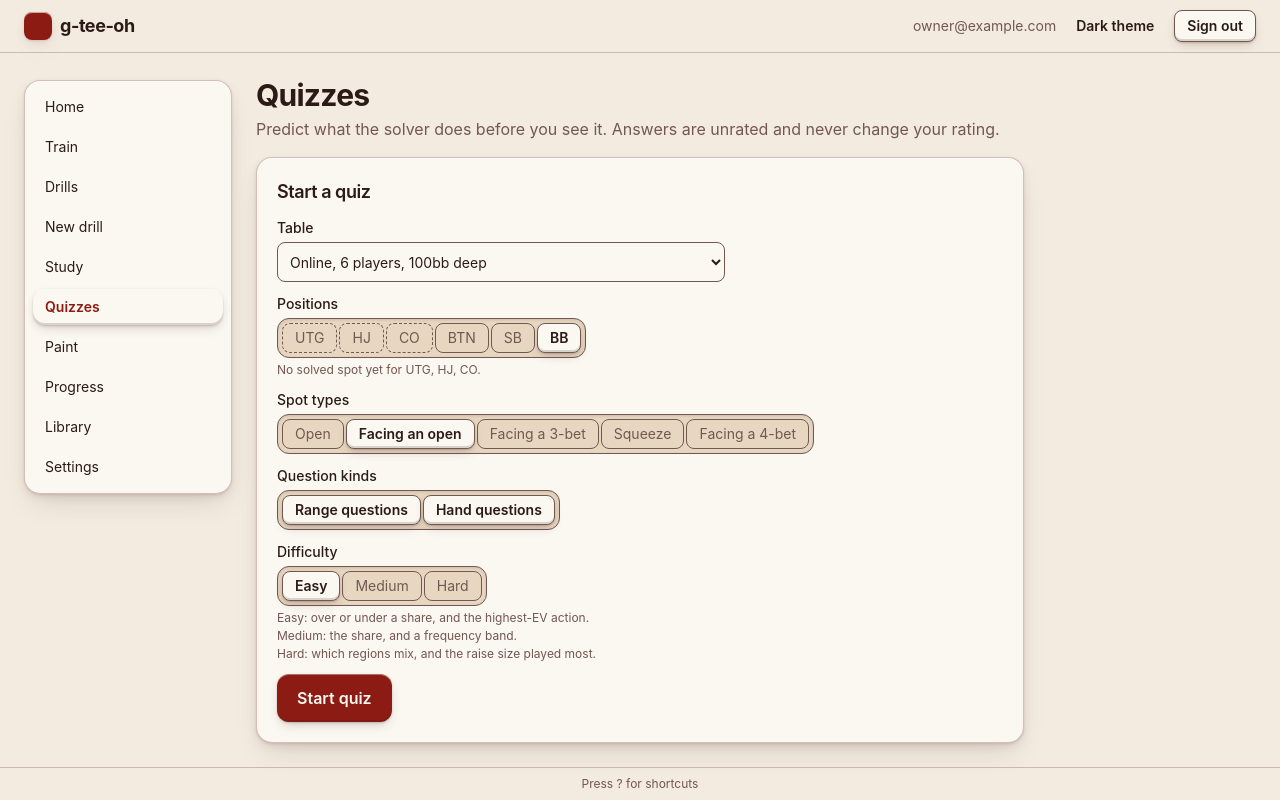
Test: R3.16 the quiz's Enter submits from the chosen option or the page only (PR #45 round 4 b, PR #49 round 1) › R3.16 R3.30 Enter on the focused Home link follows it and submits nothing (PR #49 round 1, finding 5)
Click the button "Start quiz" at x=334, y=698, box [277, 674, 392, 722]
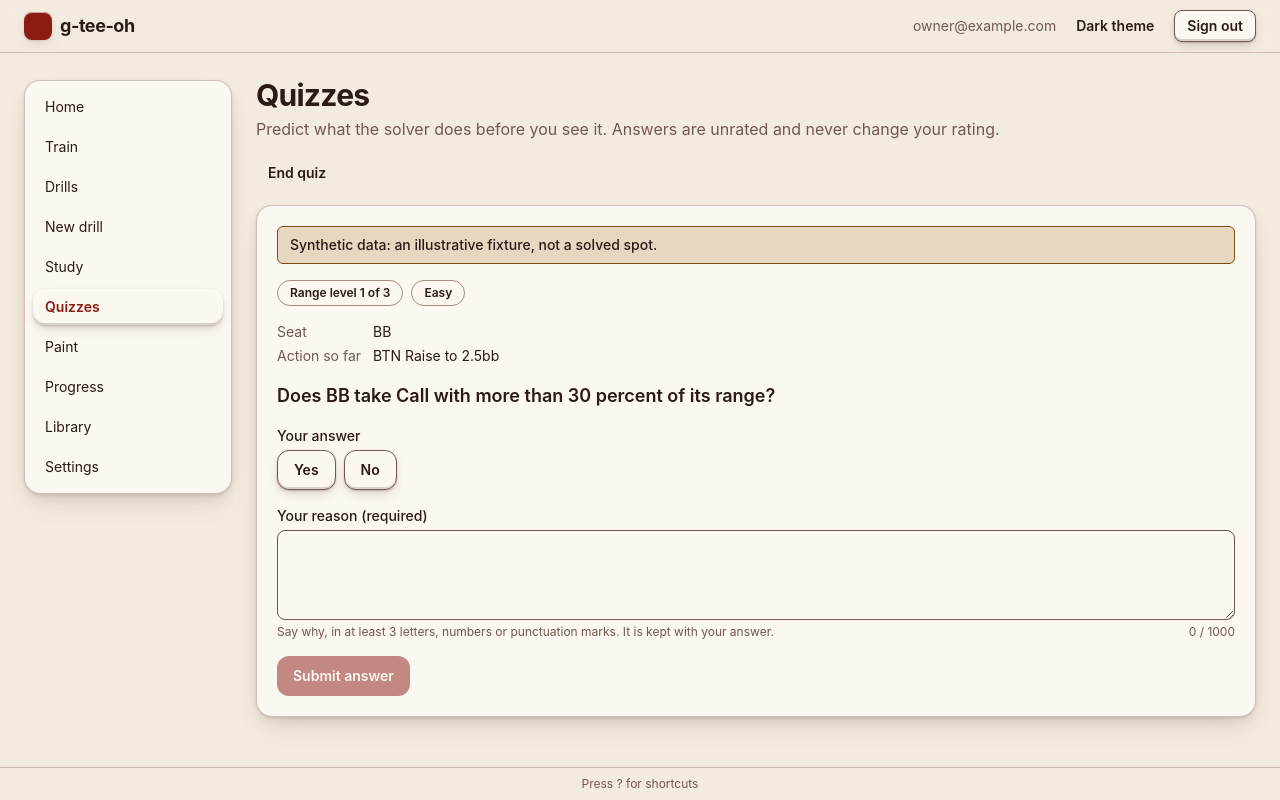
Now the heading "Does BB take Call with more than 30 percent of its range?" is shown, box [277, 385, 775, 406]
Type "Facing a small open, the price is good." into the text box labelled "Your reason (required)" at x=756, y=575, box [277, 530, 1235, 620]
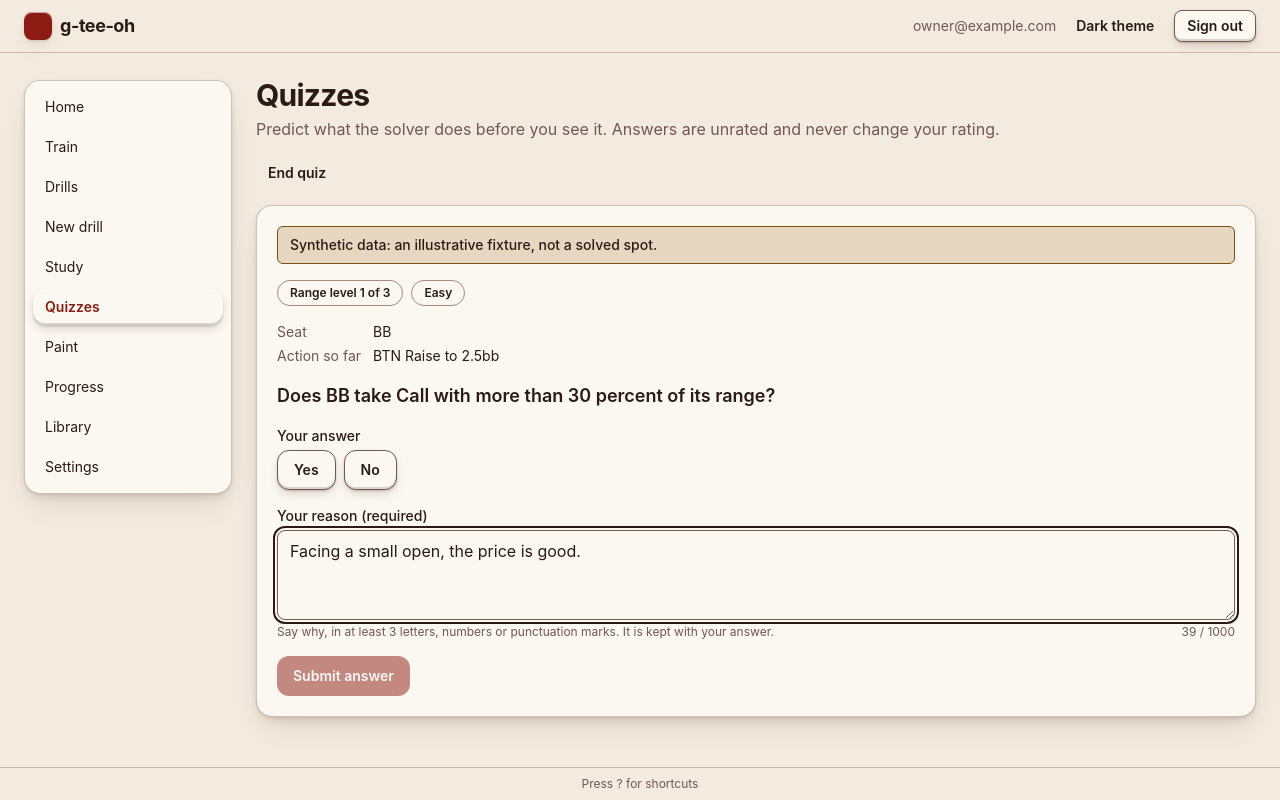
Click the button "No" at x=370, y=470, box [344, 450, 397, 490]
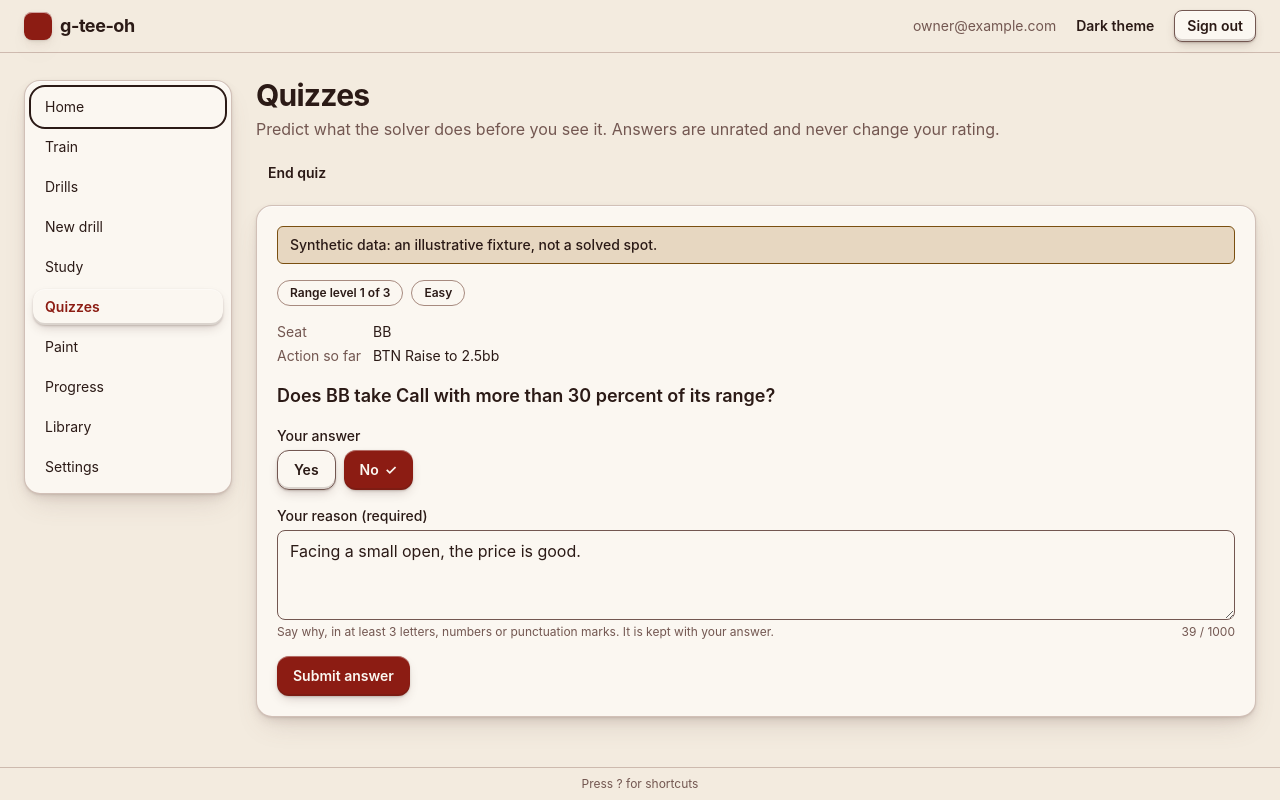
Press Enter
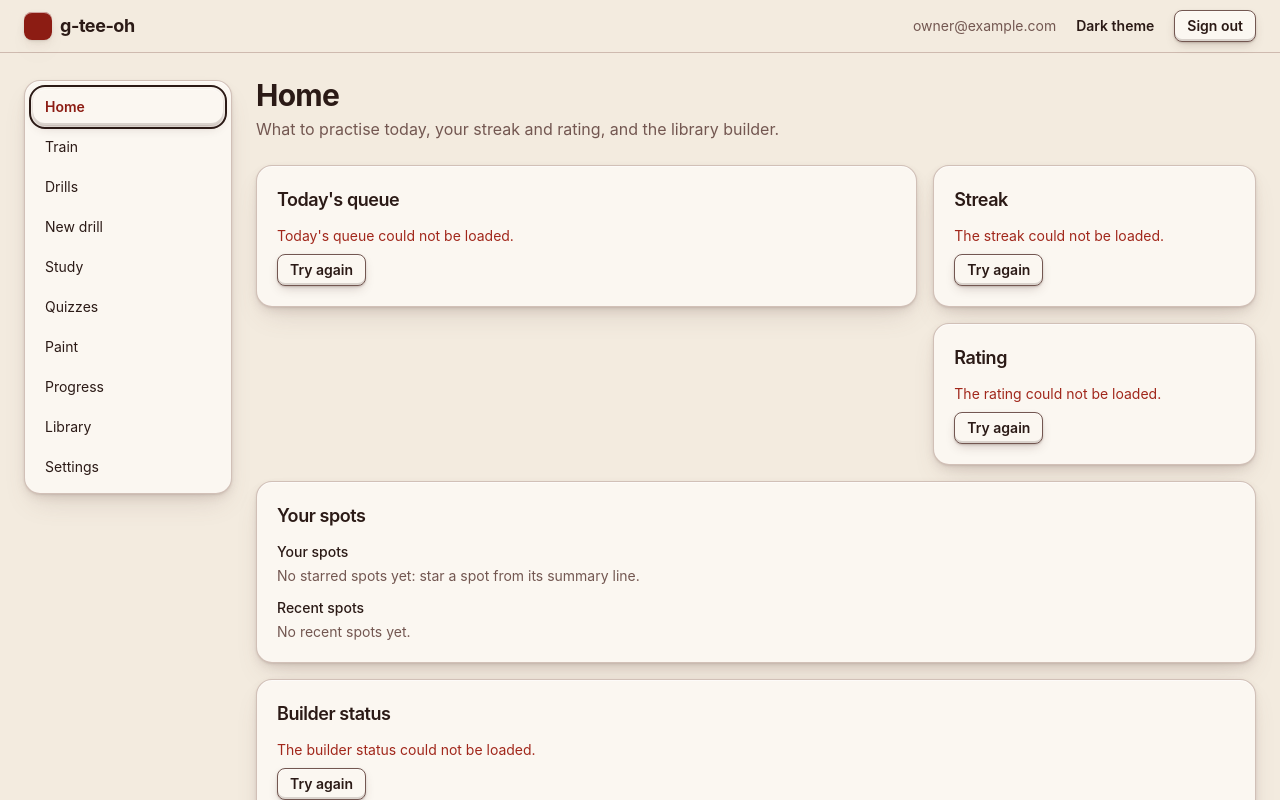
Now the heading "Home" is shown, box [256, 77, 339, 113]
